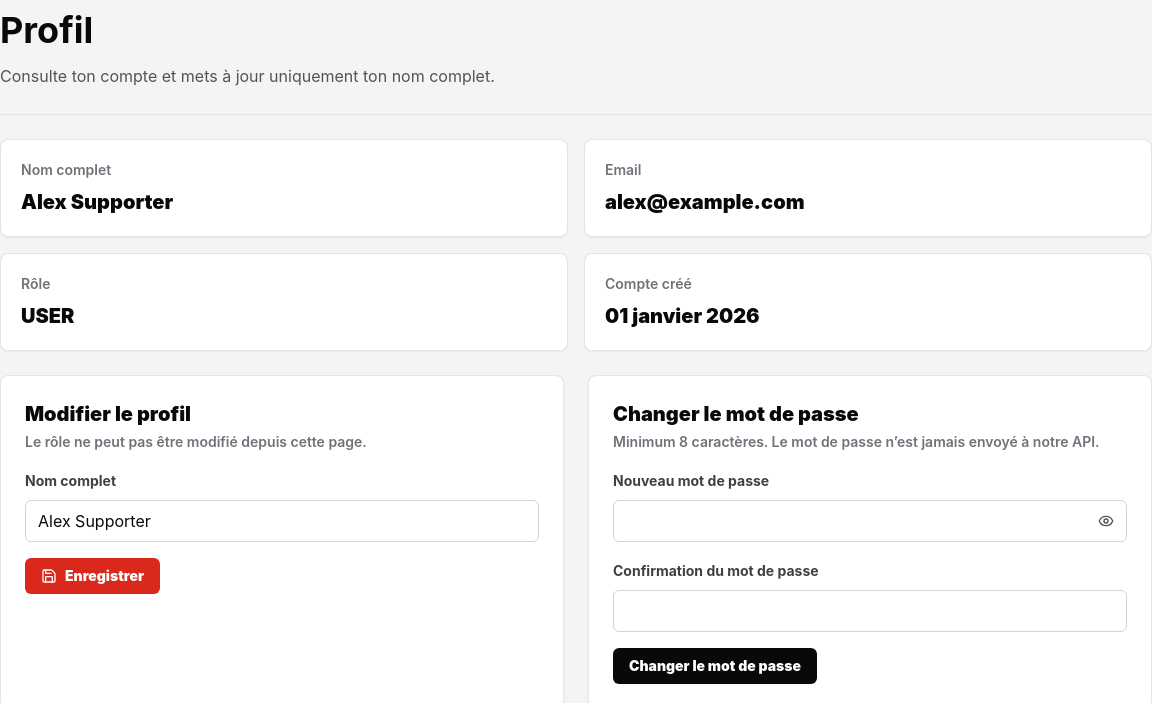
account pages › rejects short passwords and mismatched confirmations before update
Step 1. Type "short" into the password field labelled "Nouveau mot de passe" → [850, 521], box [614,501,1086,541]
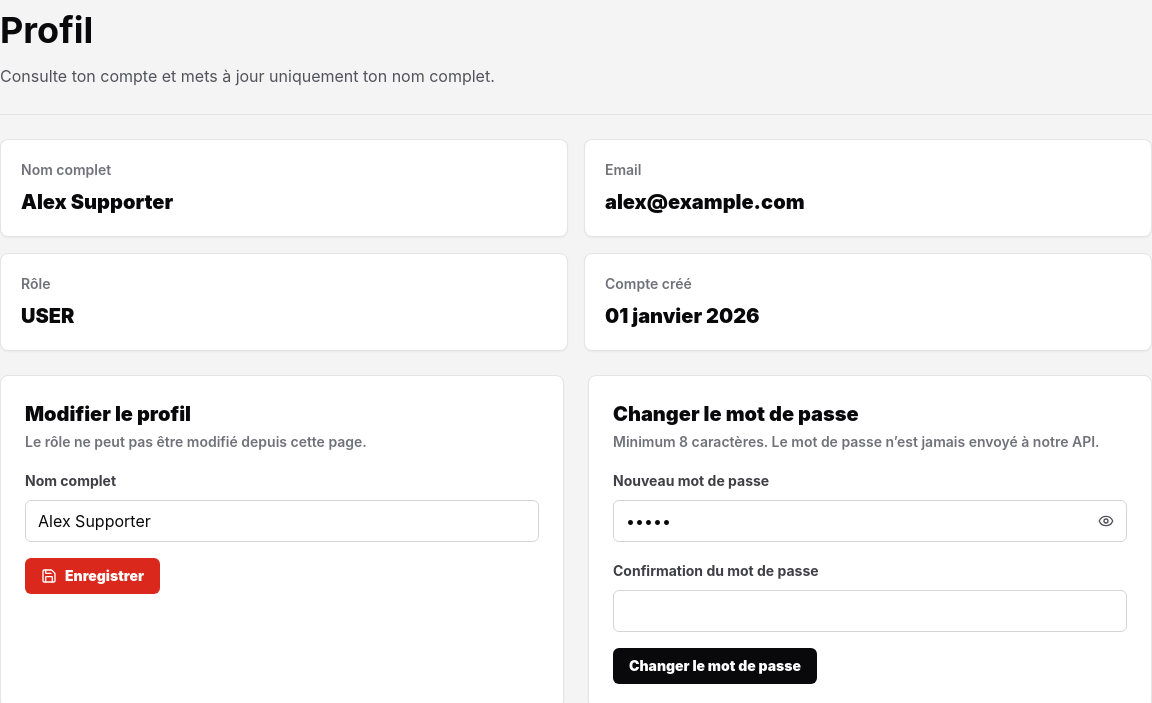
Step 2. Type "short" into the password field labelled "Confirmation du mot de passe" → [870, 611], box [613,590,1127,632]
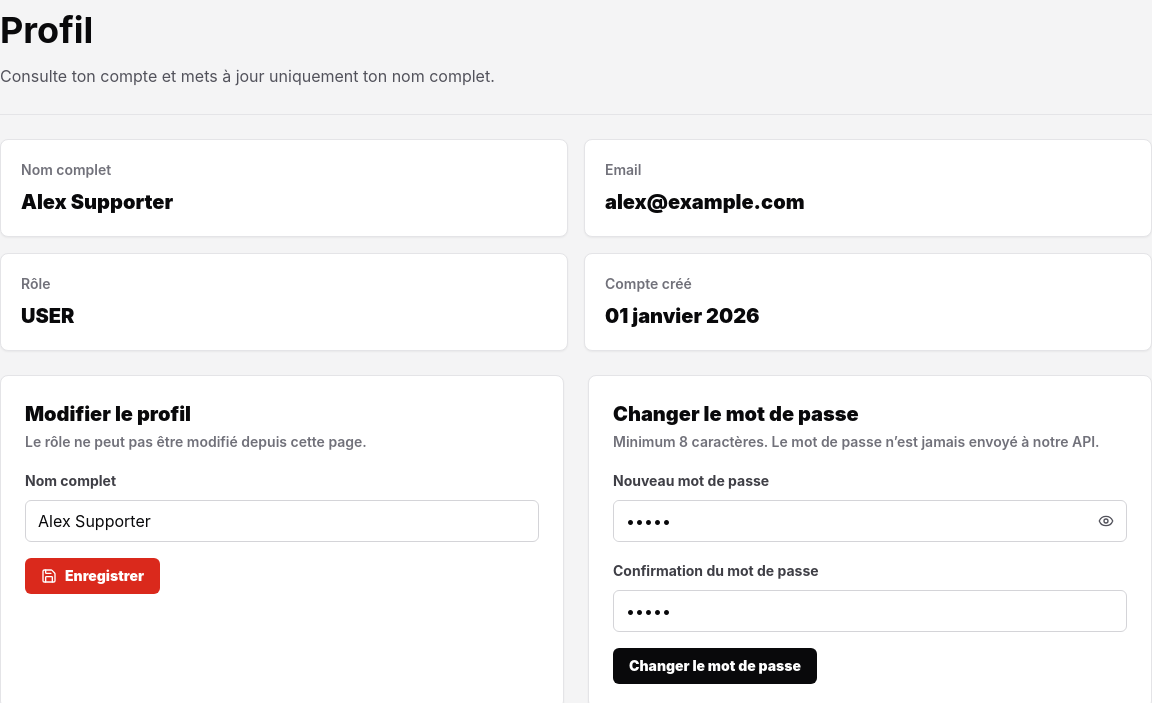
Step 3. Click the button "Changer le mot de passe" → [715, 666], box [613,648,817,684]
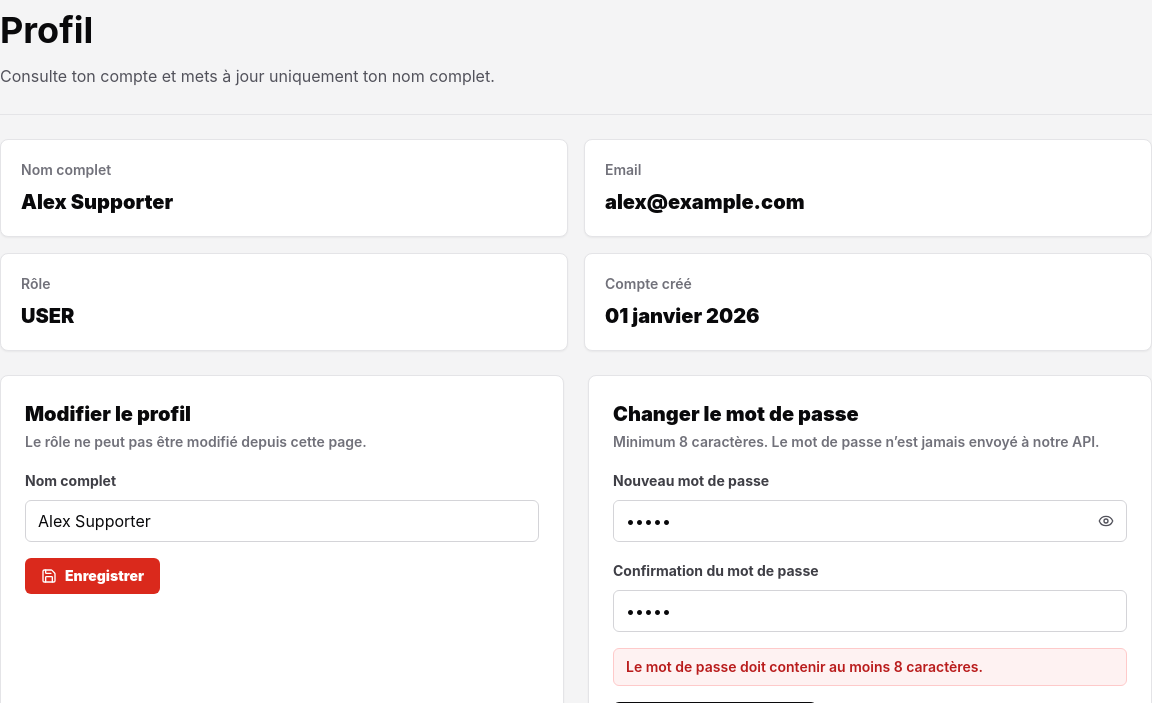
Expected: the text "Le mot de passe doit contenir au moins 8 caractères." is shown, [613,648,1127,686]
Step 4. Type "NewPassword123!" into the password field labelled "Nouveau mot de passe" → [850, 521], box [614,501,1086,541]
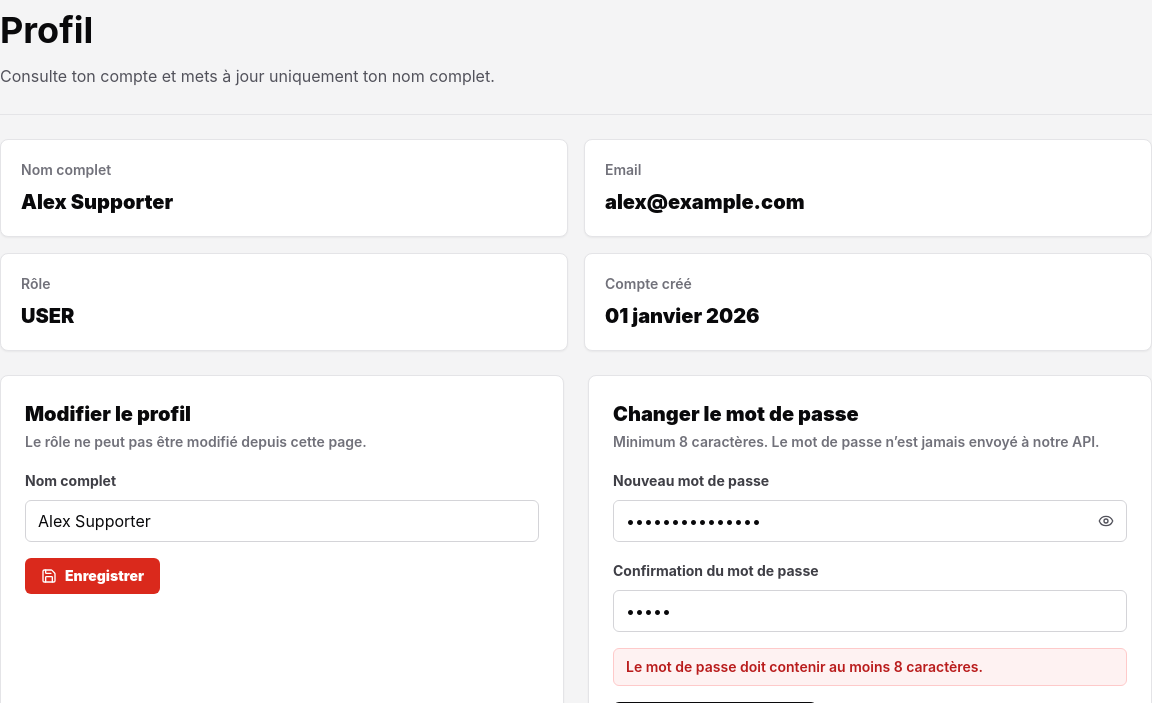
Step 5. Type "Different123!" into the password field labelled "Confirmation du mot de passe" → [870, 611], box [613,590,1127,632]
(page scrolled)
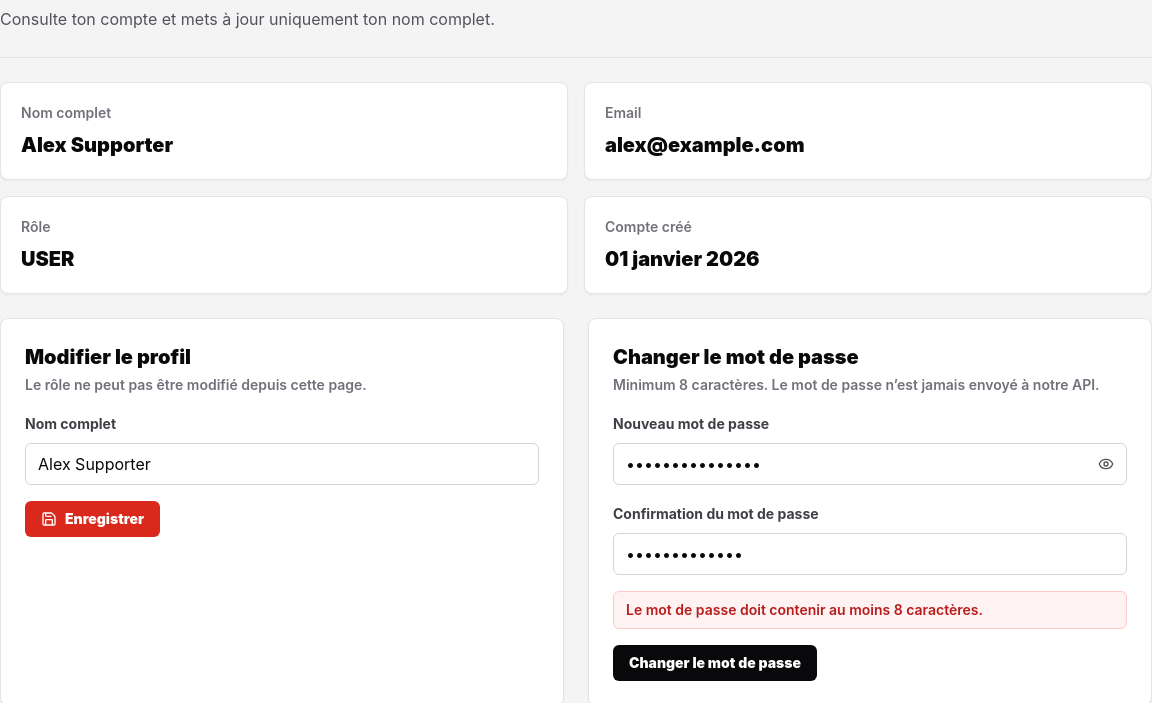
Step 6. Click the button "Changer le mot de passe" → [715, 663], box [613,645,817,681]
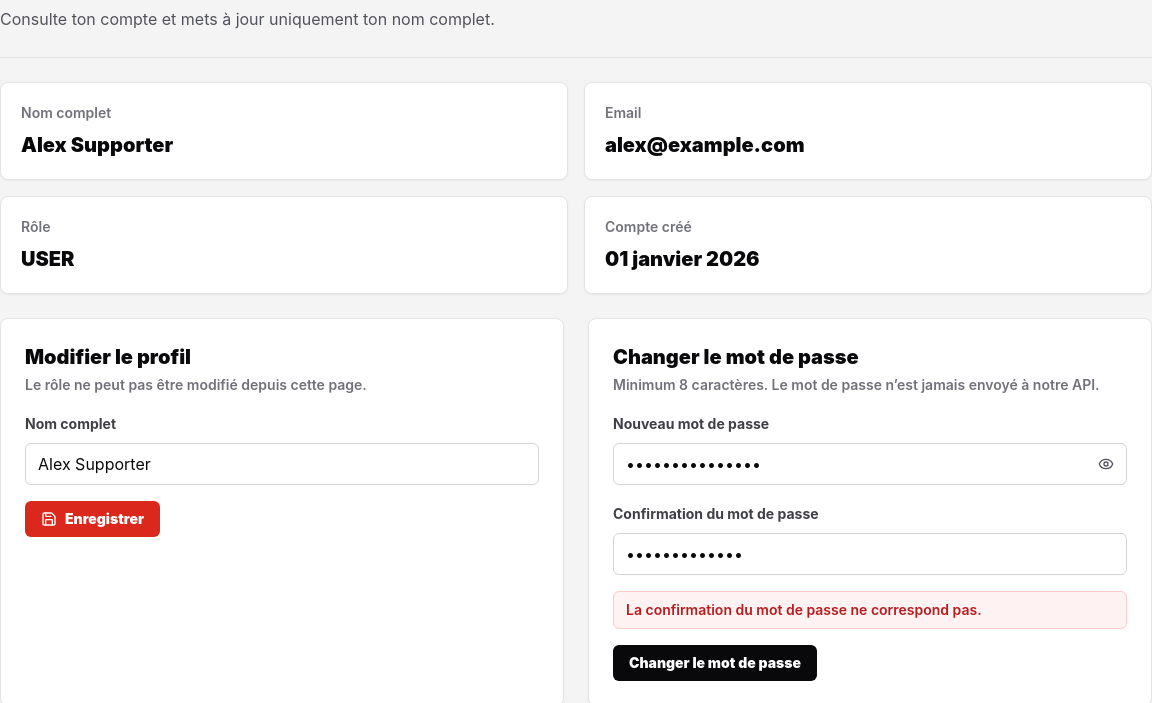
Expected: the text "La confirmation du mot de passe ne correspond pas." is shown, [613,591,1127,629]
